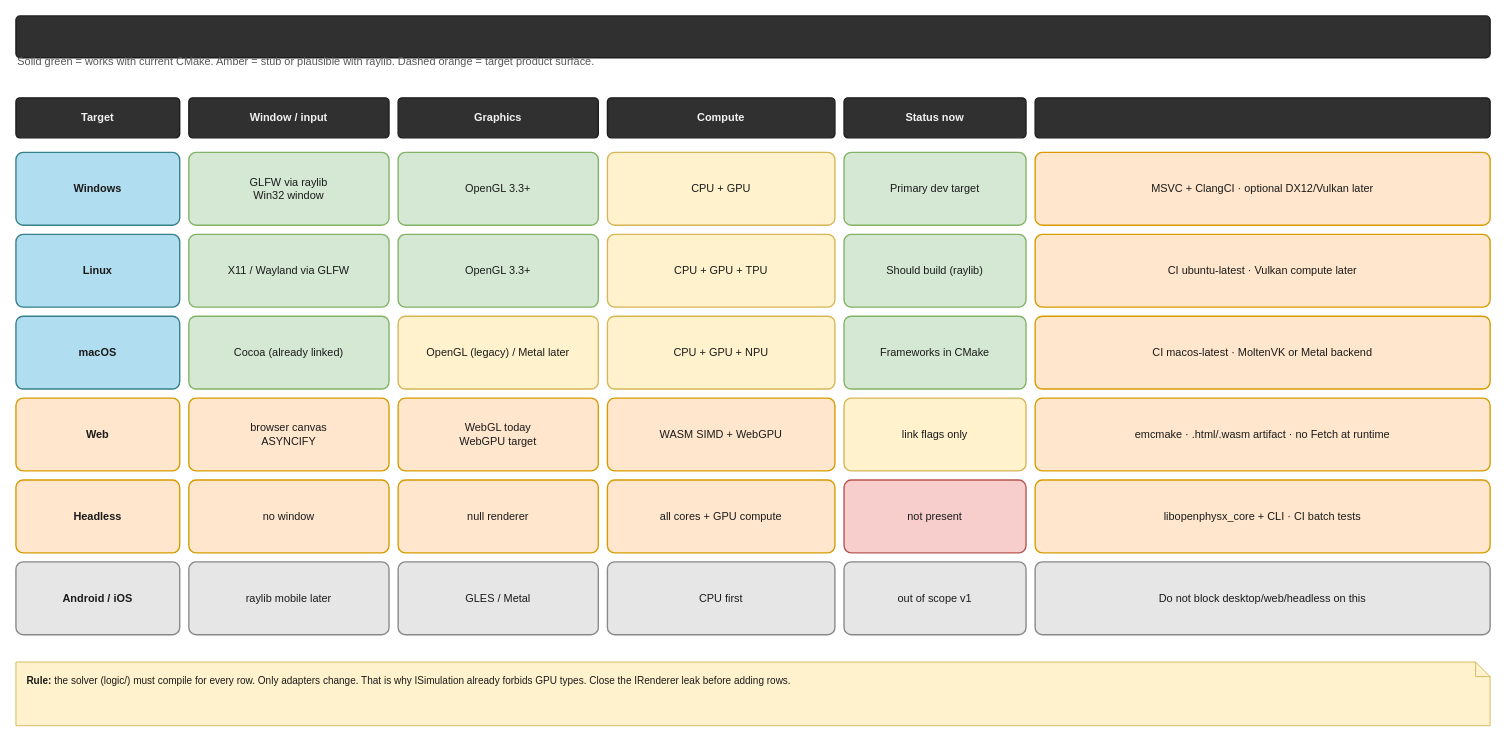
This 1507x743 diagram has some shape labels left out. The shapes that lost their labels are listed below. From the top down, each one's box as (x1, y1, x2, y2) in pixels, then its label:
(15, 15, 1490, 58): Run everywhere — platform matrix
(1034, 97, 1490, 138): To ship
